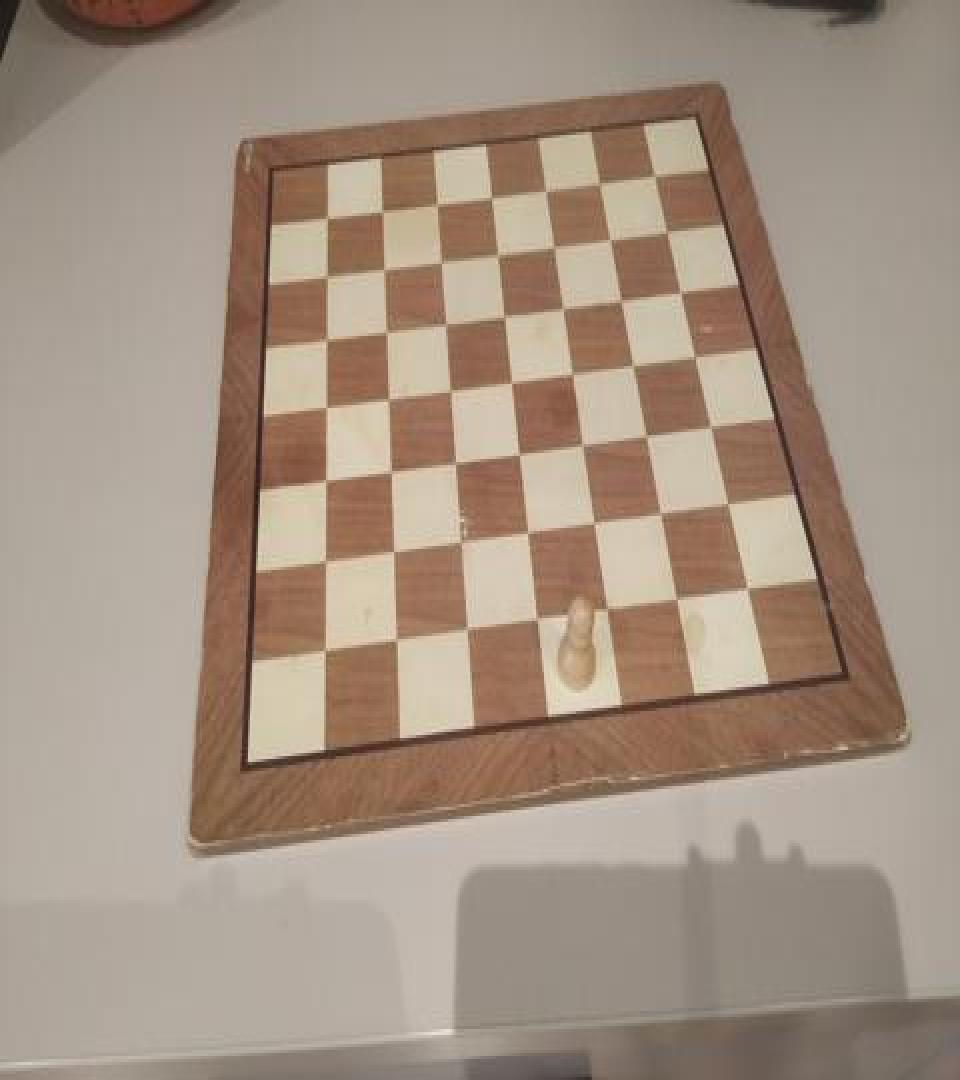xcorner: (652, 502, 670, 530), (439, 376, 457, 404), (563, 358, 581, 386), (375, 316, 393, 344), (430, 244, 448, 272), (657, 214, 675, 242), (316, 202, 334, 230), (536, 172, 554, 200), (313, 642, 331, 669), (456, 621, 474, 648), (527, 610, 545, 637), (598, 600, 616, 627), (739, 579, 757, 606), (314, 552, 332, 579), (450, 531, 468, 558), (518, 522, 536, 549), (719, 492, 737, 519), (314, 470, 332, 497), (379, 459, 397, 486), (444, 450, 462, 477), (509, 441, 527, 468), (574, 432, 592, 459), (638, 423, 656, 450), (702, 414, 720, 441), (315, 393, 333, 420), (377, 386, 395, 413), (501, 368, 519, 395), (624, 350, 642, 377), (686, 342, 704, 369), (315, 324, 333, 351), (494, 300, 512, 327), (553, 291, 571, 318), (612, 284, 630, 311), (671, 276, 689, 303), (315, 261, 333, 288), (487, 237, 505, 264), (601, 222, 619, 249), (371, 195, 389, 222), (426, 188, 444, 215), (481, 180, 499, 207), (590, 165, 608, 192), (645, 157, 663, 184), (385, 632, 403, 658), (668, 590, 686, 616), (382, 542, 400, 568), (585, 512, 603, 538), (435, 308, 453, 334), (373, 254, 391, 280), (544, 230, 562, 256)
